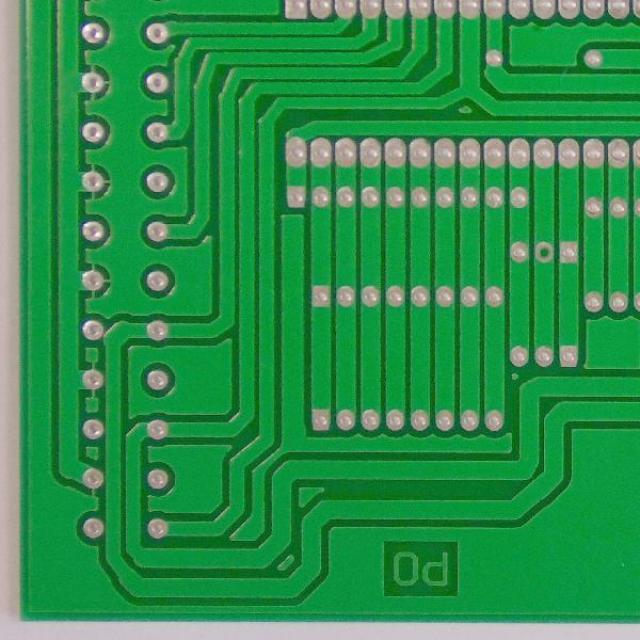Missing_Hole: (531, 240, 556, 265)
